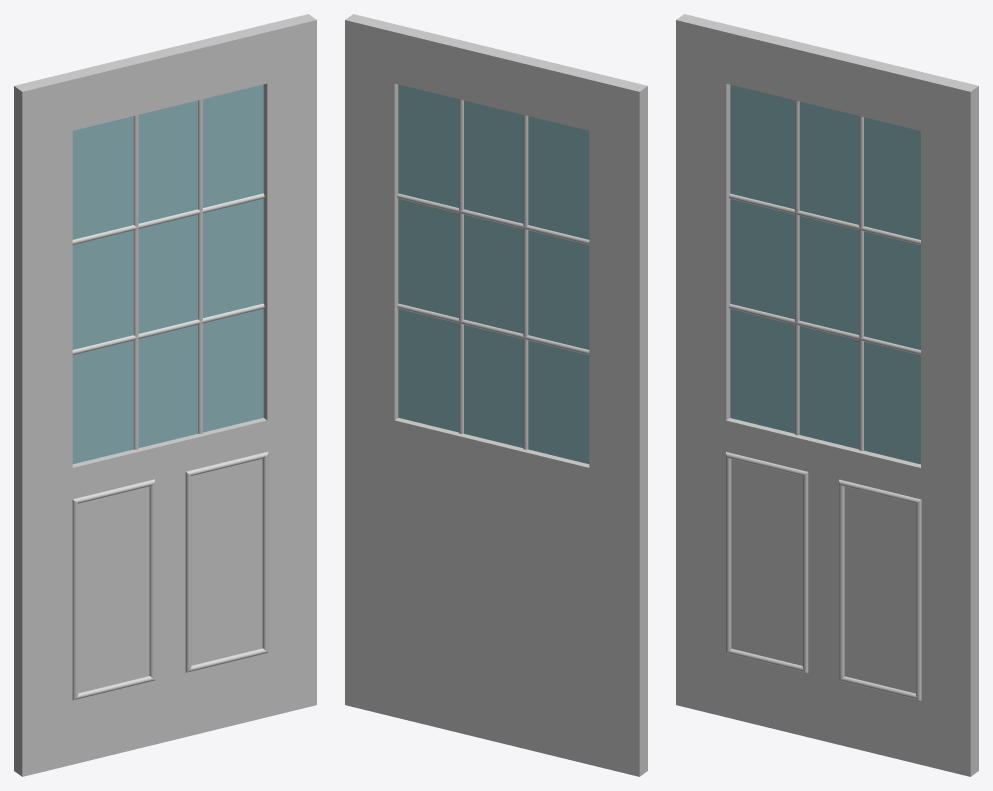
Rendered from door.glb.
3 views of the same model, side by side, from view 1: azimuth 30°, elevation 25°; view 2: azimuth 150°, elevation 25°; view 3: azimuth 330°, elevation 25° (orthographic).
Parts seen in each view (by area): view 1: Mesh_Mesh_head_geo.001_lambert2SG.001; view 2: Mesh_Mesh_head_geo.001_lambert2SG.001; view 3: Mesh_Mesh_head_geo.001_lambert2SG.001.
Part boxes in pixels (<box>): Mesh_Mesh_head_geo.001_lambert2SG.001: <box>14,14,316,776</box>; Mesh_Mesh_head_geo.001_lambert2SG.001: <box>345,14,647,776</box>; Mesh_Mesh_head_geo.001_lambert2SG.001: <box>676,14,978,776</box>.
Size of the model in its own units: 18 by 40 by 1.04.
